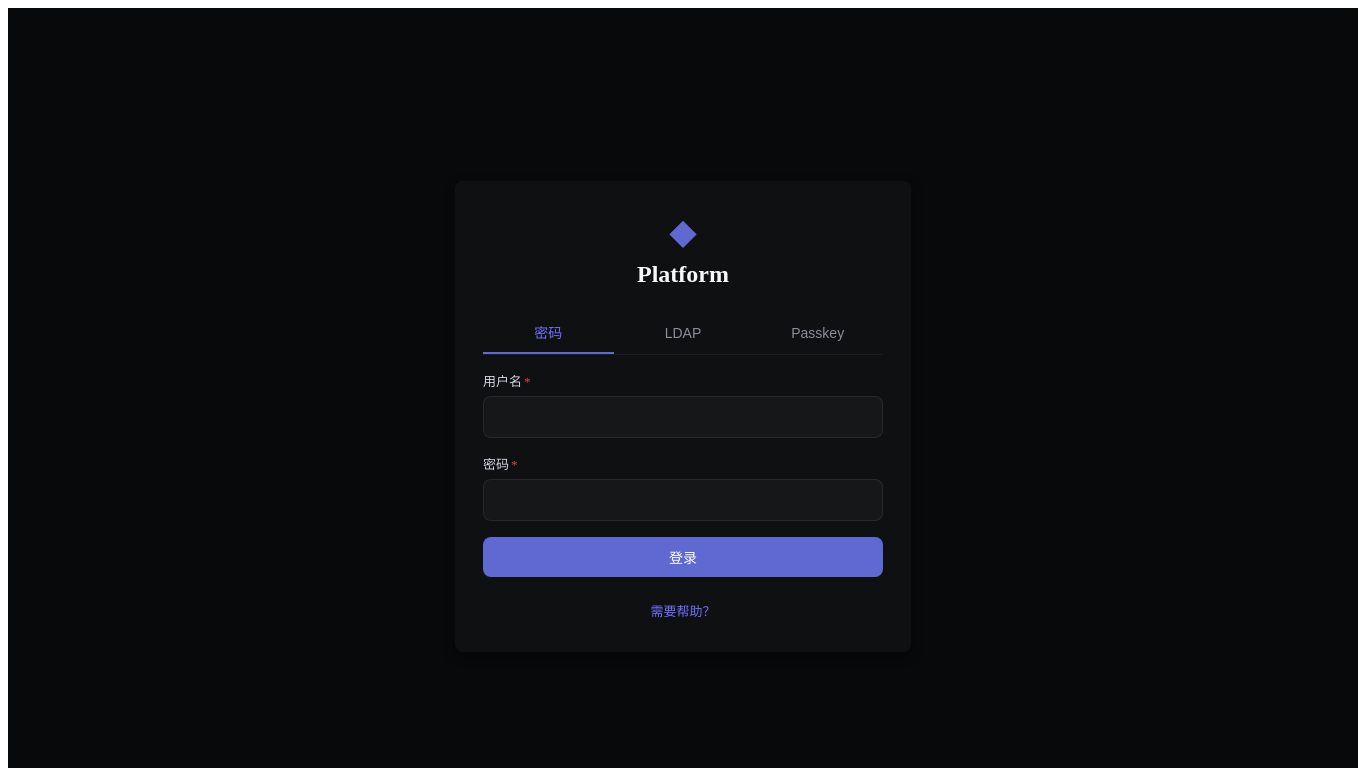
Scenario: AC：表单校验 + 中性文案（E2 不泄账号） › 凭据错误 → auth.invalid_credentials 中性文案（不泄账号）
Step 1. Type "admin" into the field labelled "用户名*" → (683, 416), box [483,396,883,438]
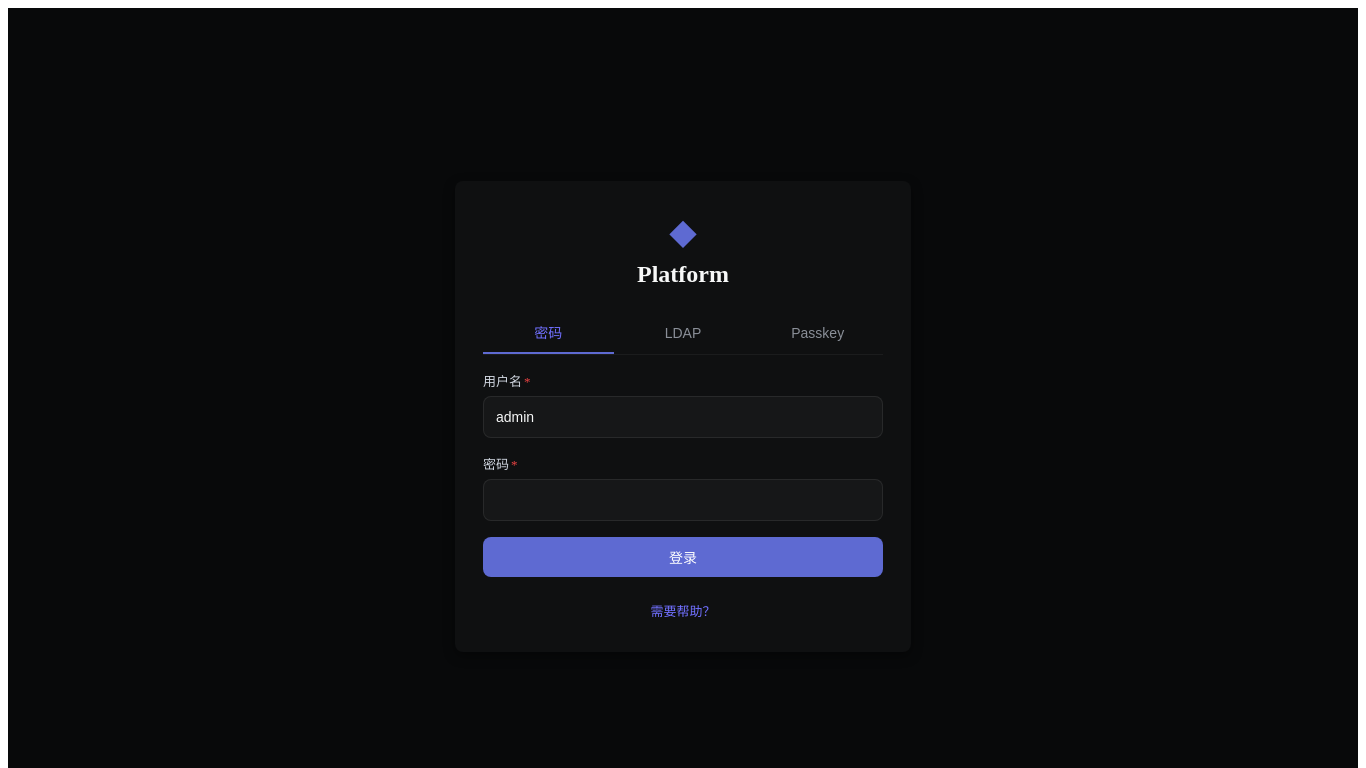
Step 2. Type "wrong" into the password field labelled "密码*" → (683, 500), box [483,478,883,520]
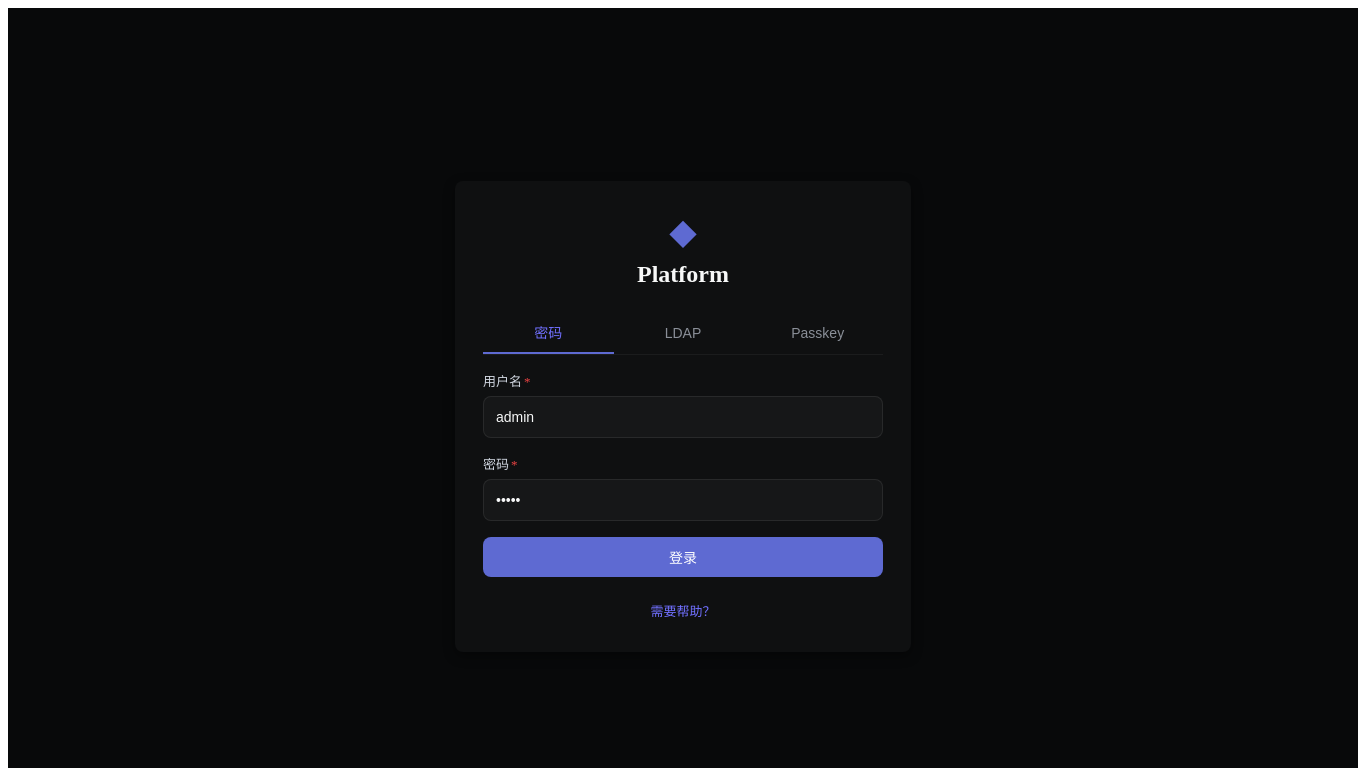
Step 3. Submit the form, box [483,370,883,576]
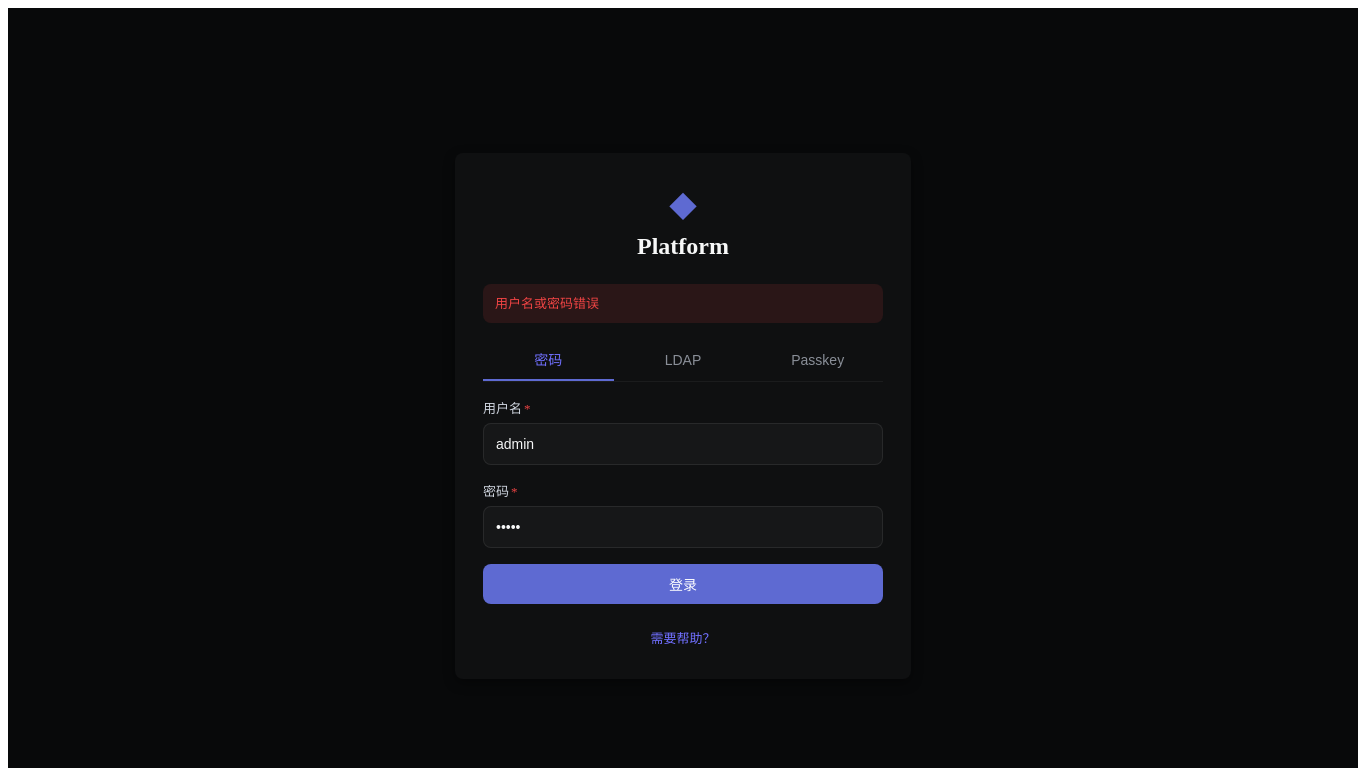
Expected: the element with class "login-error" does not show "admin"
Now the message with class "login-error" reads "用户名或密码错误", box [495,296,599,311]
